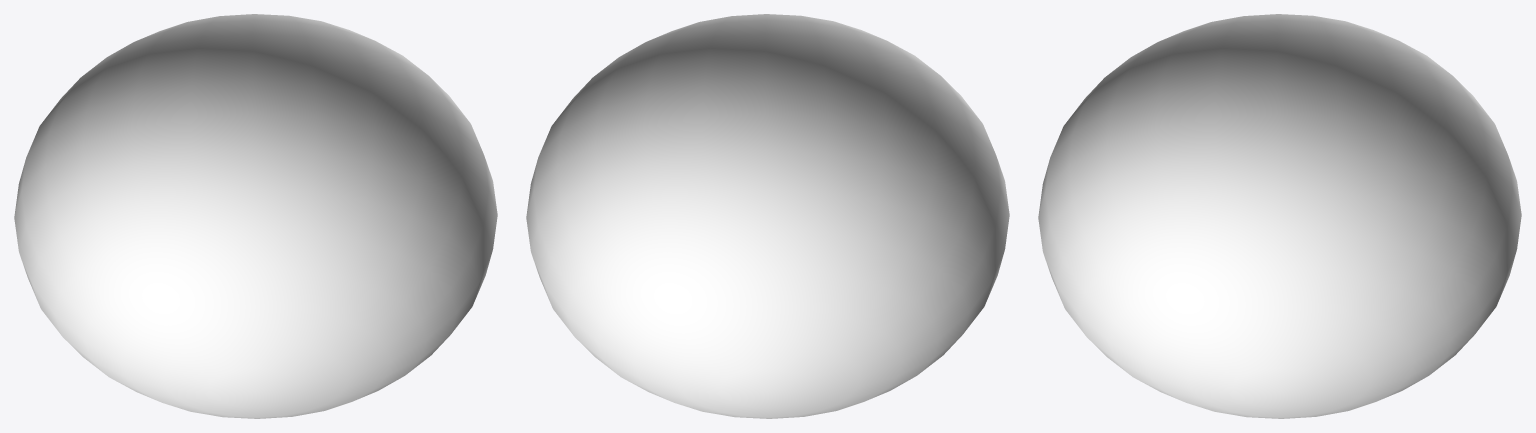
The model's file is black_vr.glb.
3 renders of one model, left to right at view 1: azimuth 30°, elevation 25°; view 2: azimuth 150°, elevation 25°; view 3: azimuth 270°, elevation 25°, orthographic.
Parts seen in each view (by area): view 1: SkyDaytime__VR_SkyDaytime00; view 2: SkyDaytime__VR_SkyDaytime00; view 3: SkyDaytime__VR_SkyDaytime00.
Part boxes in pixels (left/top/right/bottom): SkyDaytime__VR_SkyDaytime00: left=14, top=14, right=497, bottom=418; SkyDaytime__VR_SkyDaytime00: left=526, top=14, right=1009, bottom=418; SkyDaytime__VR_SkyDaytime00: left=1038, top=14, right=1521, bottom=418.
Size of the model in its own units: 4400 by 3520 by 4400.
1 material, 1 textured.
